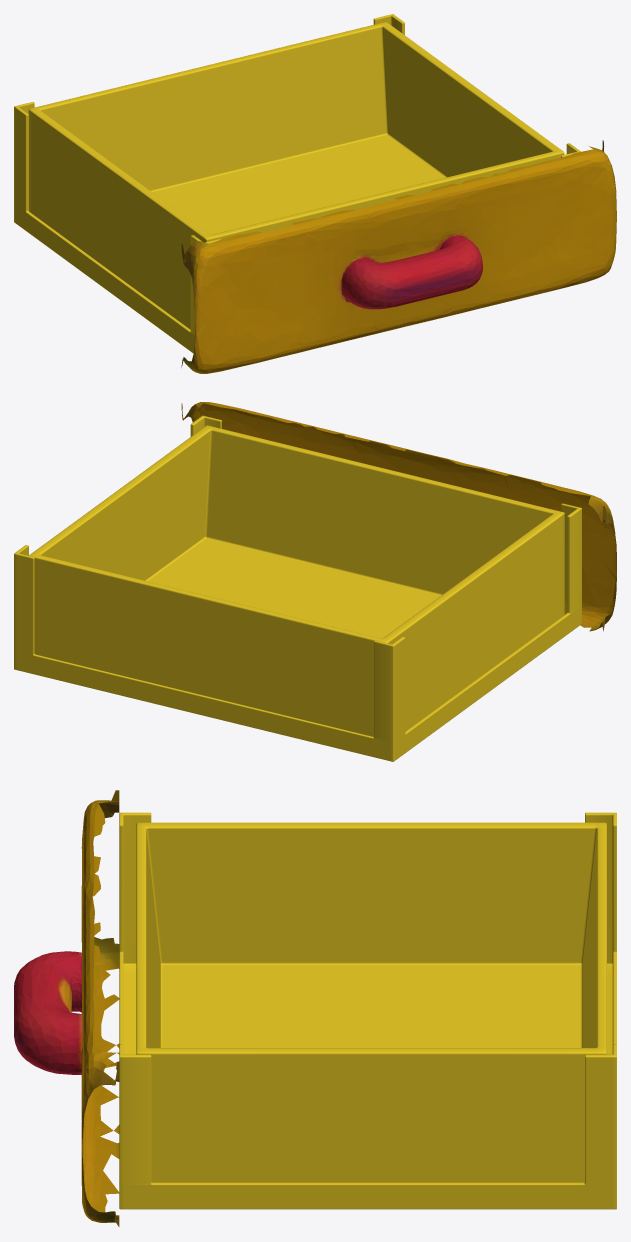
Rendered from drawer_1.glb.
The picture shows the model from 3 angles, top to bottom: view 1: azimuth 30°, elevation 25°; view 2: azimuth 150°, elevation 25°; view 3: azimuth 270°, elevation 25°; orthographic projection. The views are drawn at different scales.
Parts seen in each view (by area): view 1: prefab_drawer_body_1, source_front_cap_0; view 2: prefab_drawer_body_1, source_front_cap_0; view 3: prefab_drawer_body_1, source_front_cap_0.
Boxes of the visible parts, <box> form: prefab_drawer_body_1: <box>14,14,580,353</box>; source_front_cap_0: <box>181,140,616,373</box>; prefab_drawer_body_1: <box>14,415,581,761</box>; source_front_cap_0: <box>181,402,616,631</box>; prefab_drawer_body_1: <box>119,812,616,1209</box>; source_front_cap_0: <box>14,790,119,1226</box>.
Bounding box in the file's own units: 0.2554 × 0.0747 × 0.2399.
Materials: 2 (1 with a texture image).
